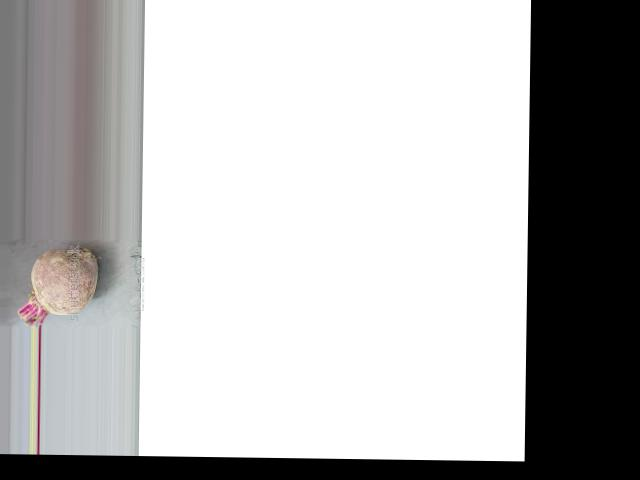beet: (18, 246, 98, 327)
